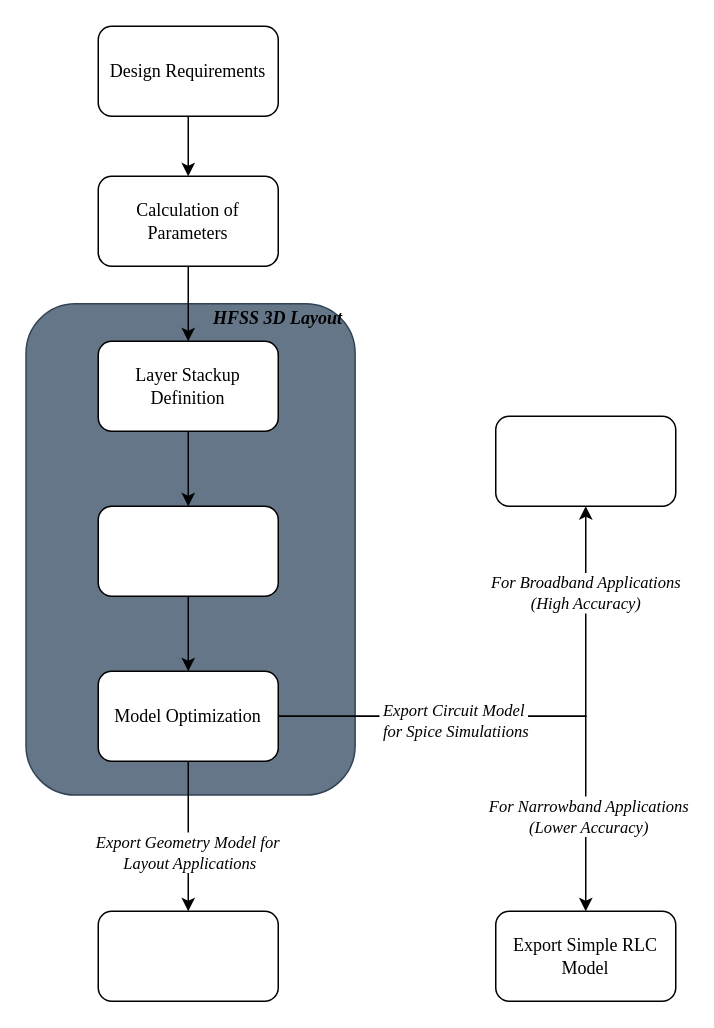
This 714x1028 diagram has some shape labels left out. Each missing label, with the centre of its shape:
Export Full wave Circuit for Spice Simulations: pixel 585 460
Export GDS to Klayout: pixel 187 955
Parametric Model Development: pixel 187 550
